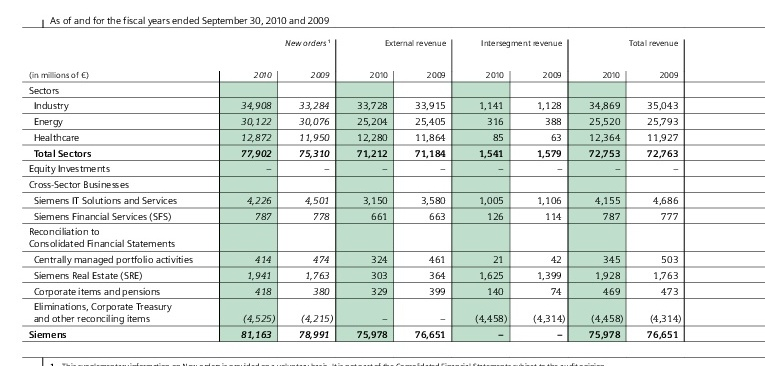table: (0, 0, 765, 366)
